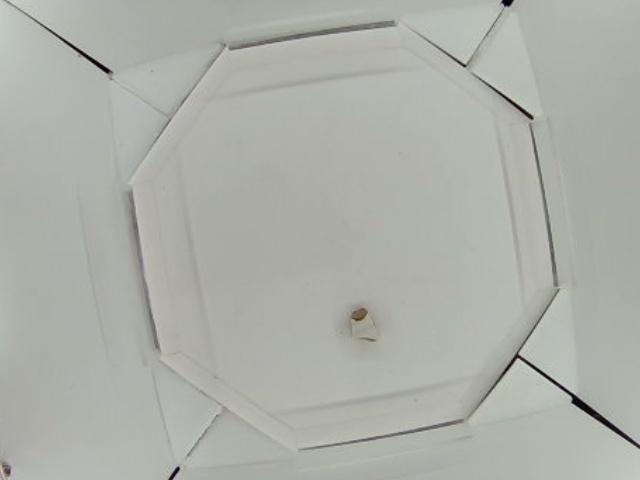China: (346, 307, 380, 340)
